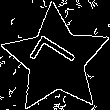L_SE: (28, 33, 85, 86)
